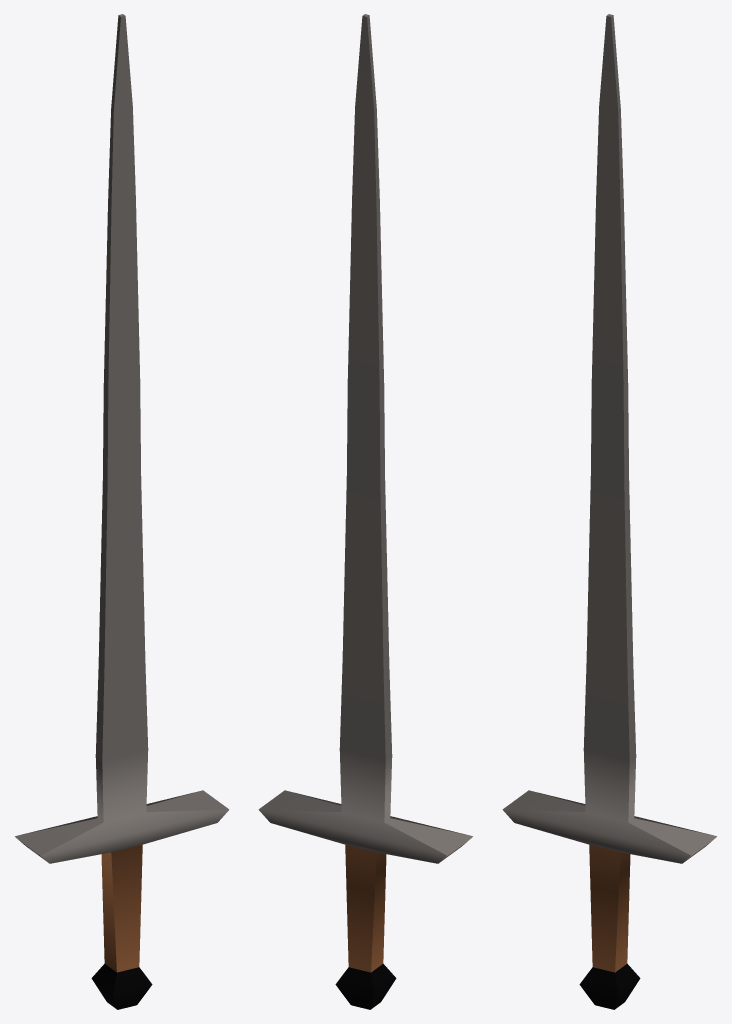
File: P_Sword_1.fbx
3 views of the same model, side by side, from view 1: azimuth 30°, elevation 25°; view 2: azimuth 150°, elevation 25°; view 3: azimuth 330°, elevation 25° (orthographic).
Visible parts, largest first — view 1: pCube1; view 2: pCube1; view 3: pCube1.
Part boxes in pixels (x1,y1,x2,y2): pCube1: [15, 14, 229, 1009]; pCube1: [258, 14, 472, 1009]; pCube1: [502, 14, 716, 1009].
Size of the model in its own units: 31 by 155 by 7.5.
